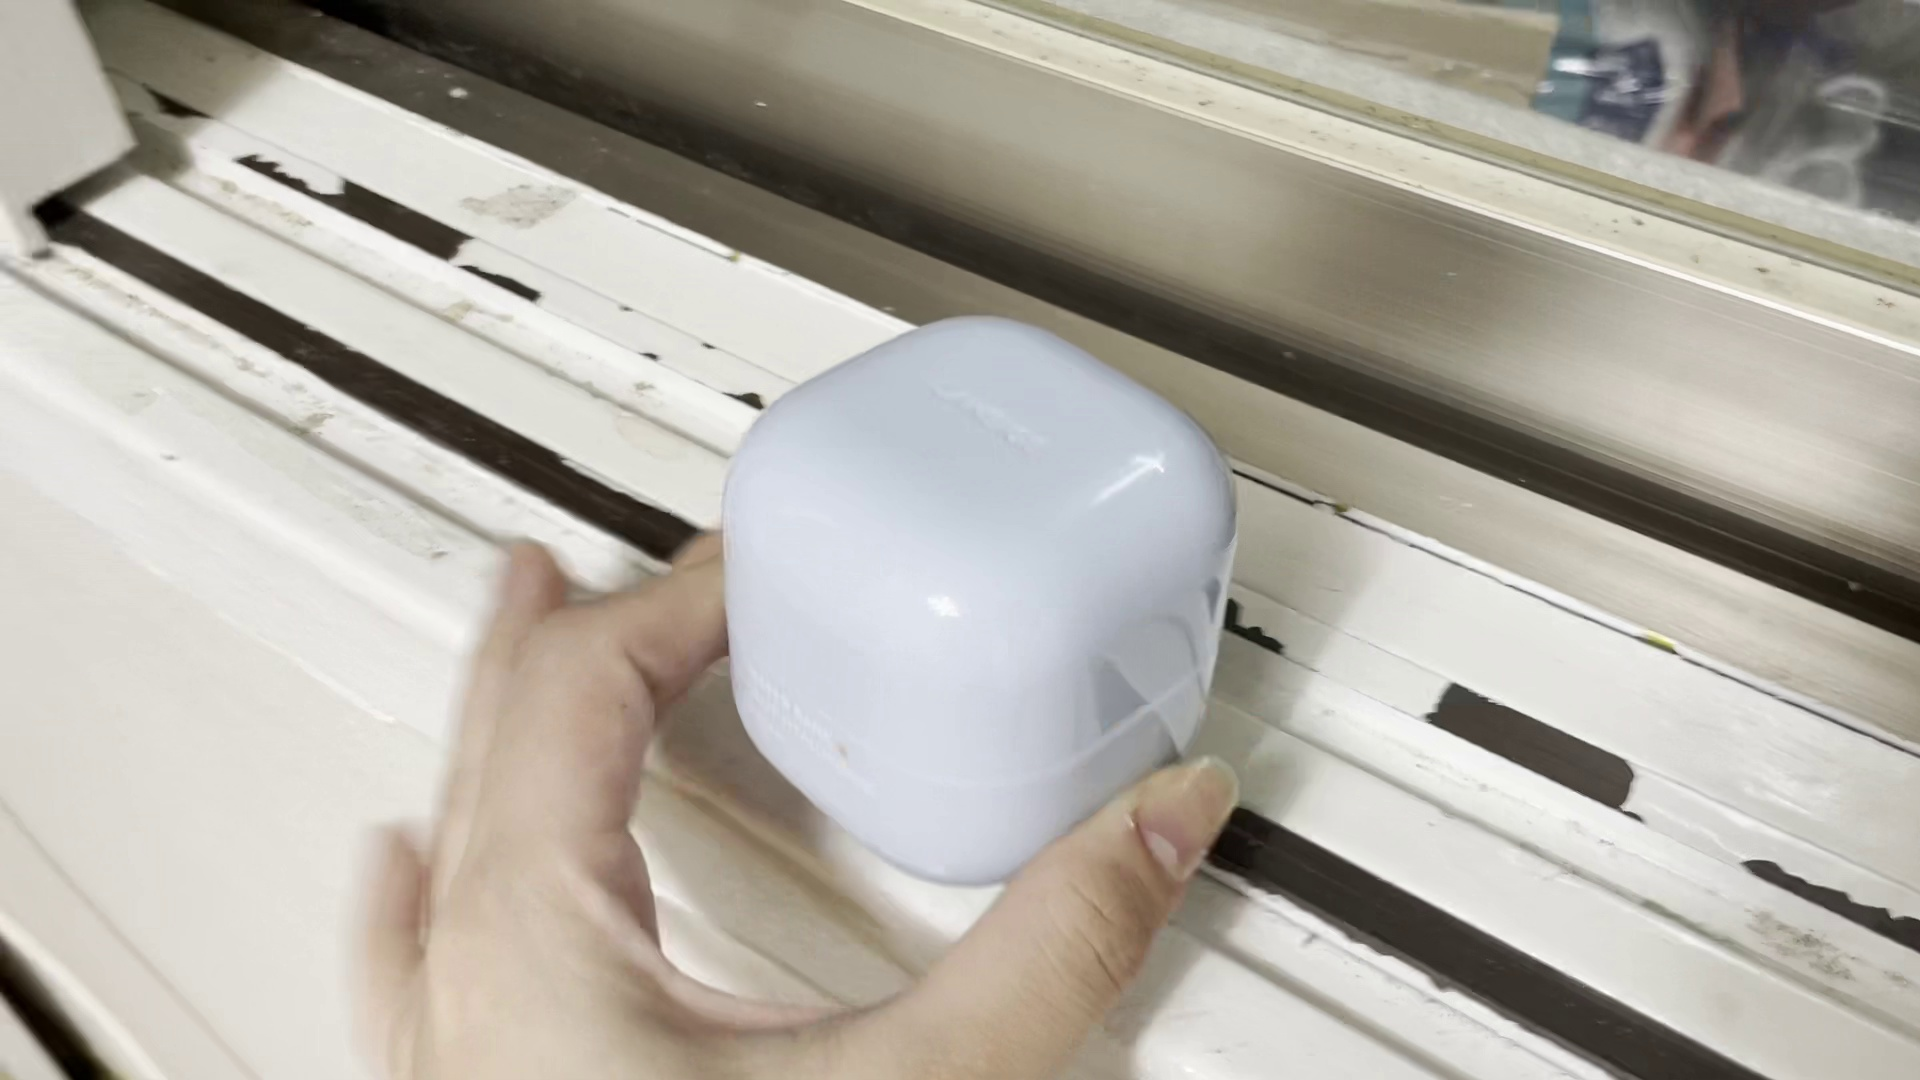cream: (720, 311, 1232, 887)
